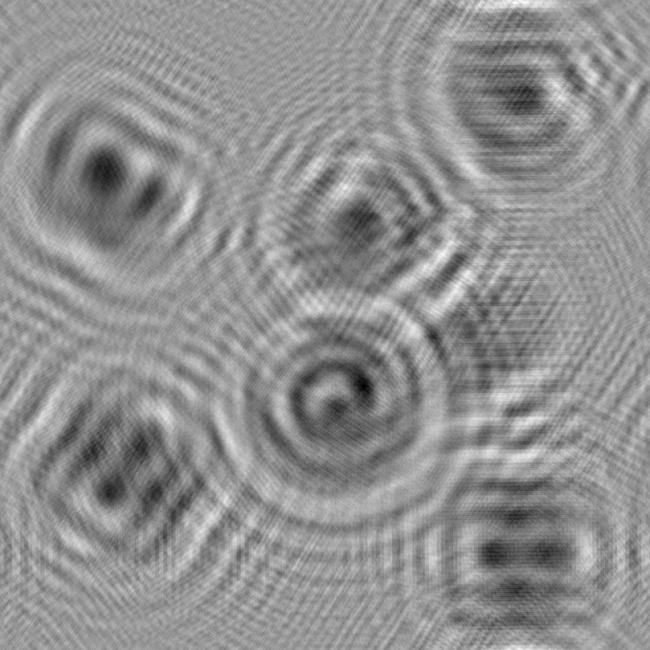F: (0, 64, 249, 311)
G: (199, 277, 464, 544)
H: (0, 329, 260, 598), (407, 427, 650, 650)
I: (356, 196, 600, 448)
J: (219, 97, 493, 355), (403, 0, 650, 216)
